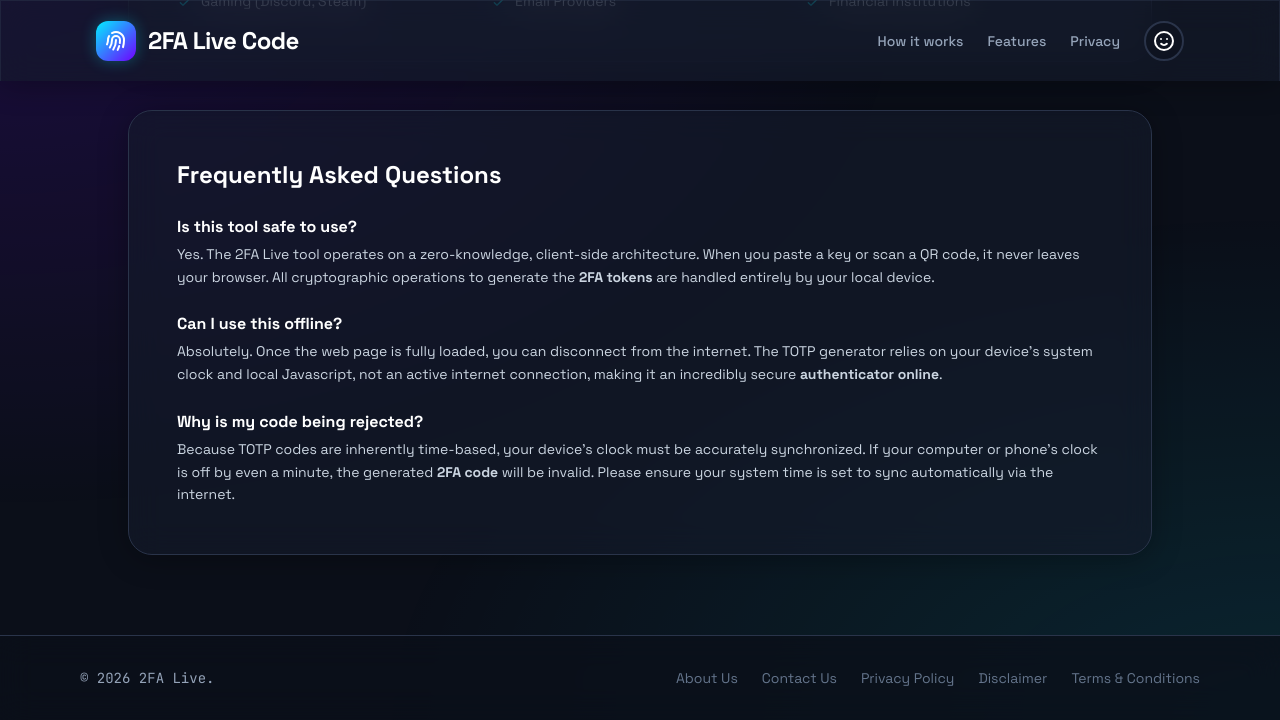
App routing › opens the legal documents from the footer
(page scrolled)
Click the button "Privacy Policy" at (908, 678), box 861,668 -> 954,688
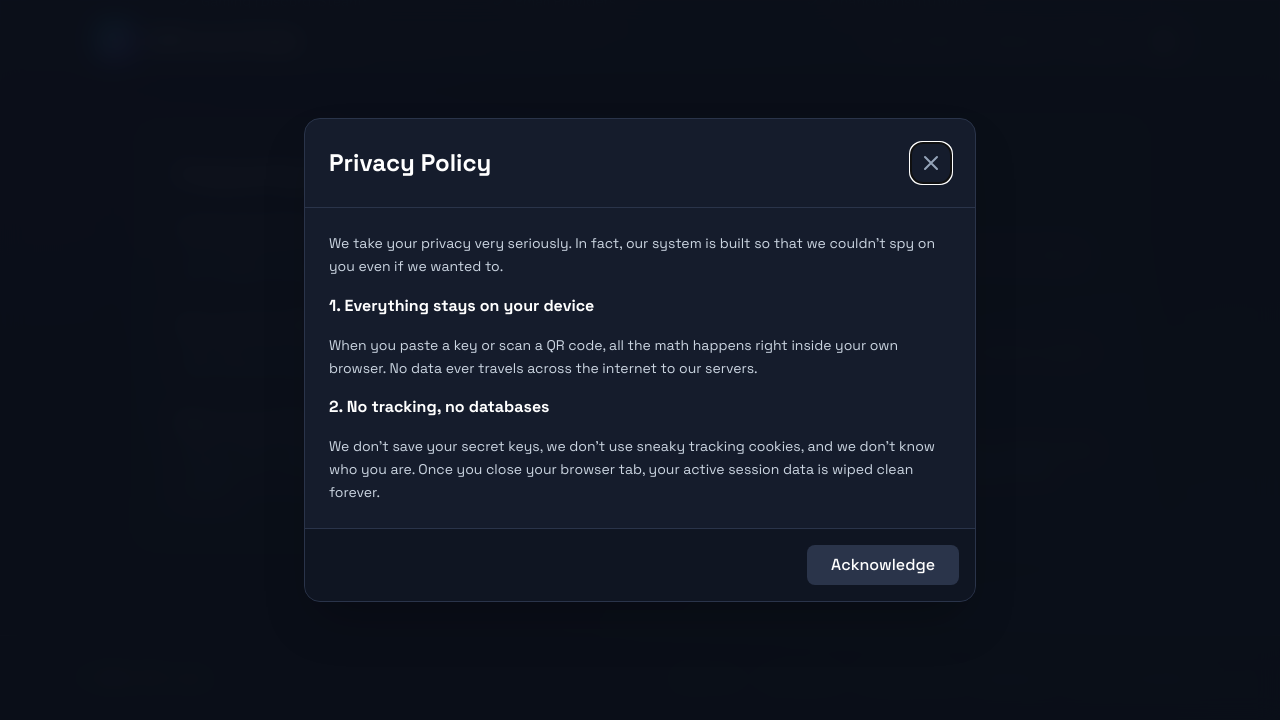
Expected: the dialog is shown, 304,118 -> 976,602
Expected: the heading "Privacy Policy" is shown, 329,147 -> 491,179
